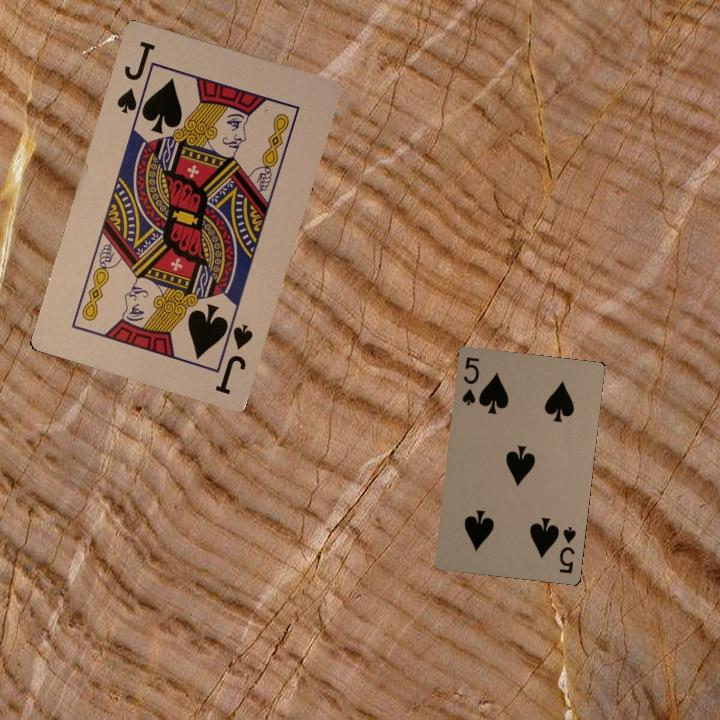5s: (458, 353, 482, 408), (555, 523, 579, 576)
Js: (210, 312, 256, 398), (112, 37, 159, 118)
